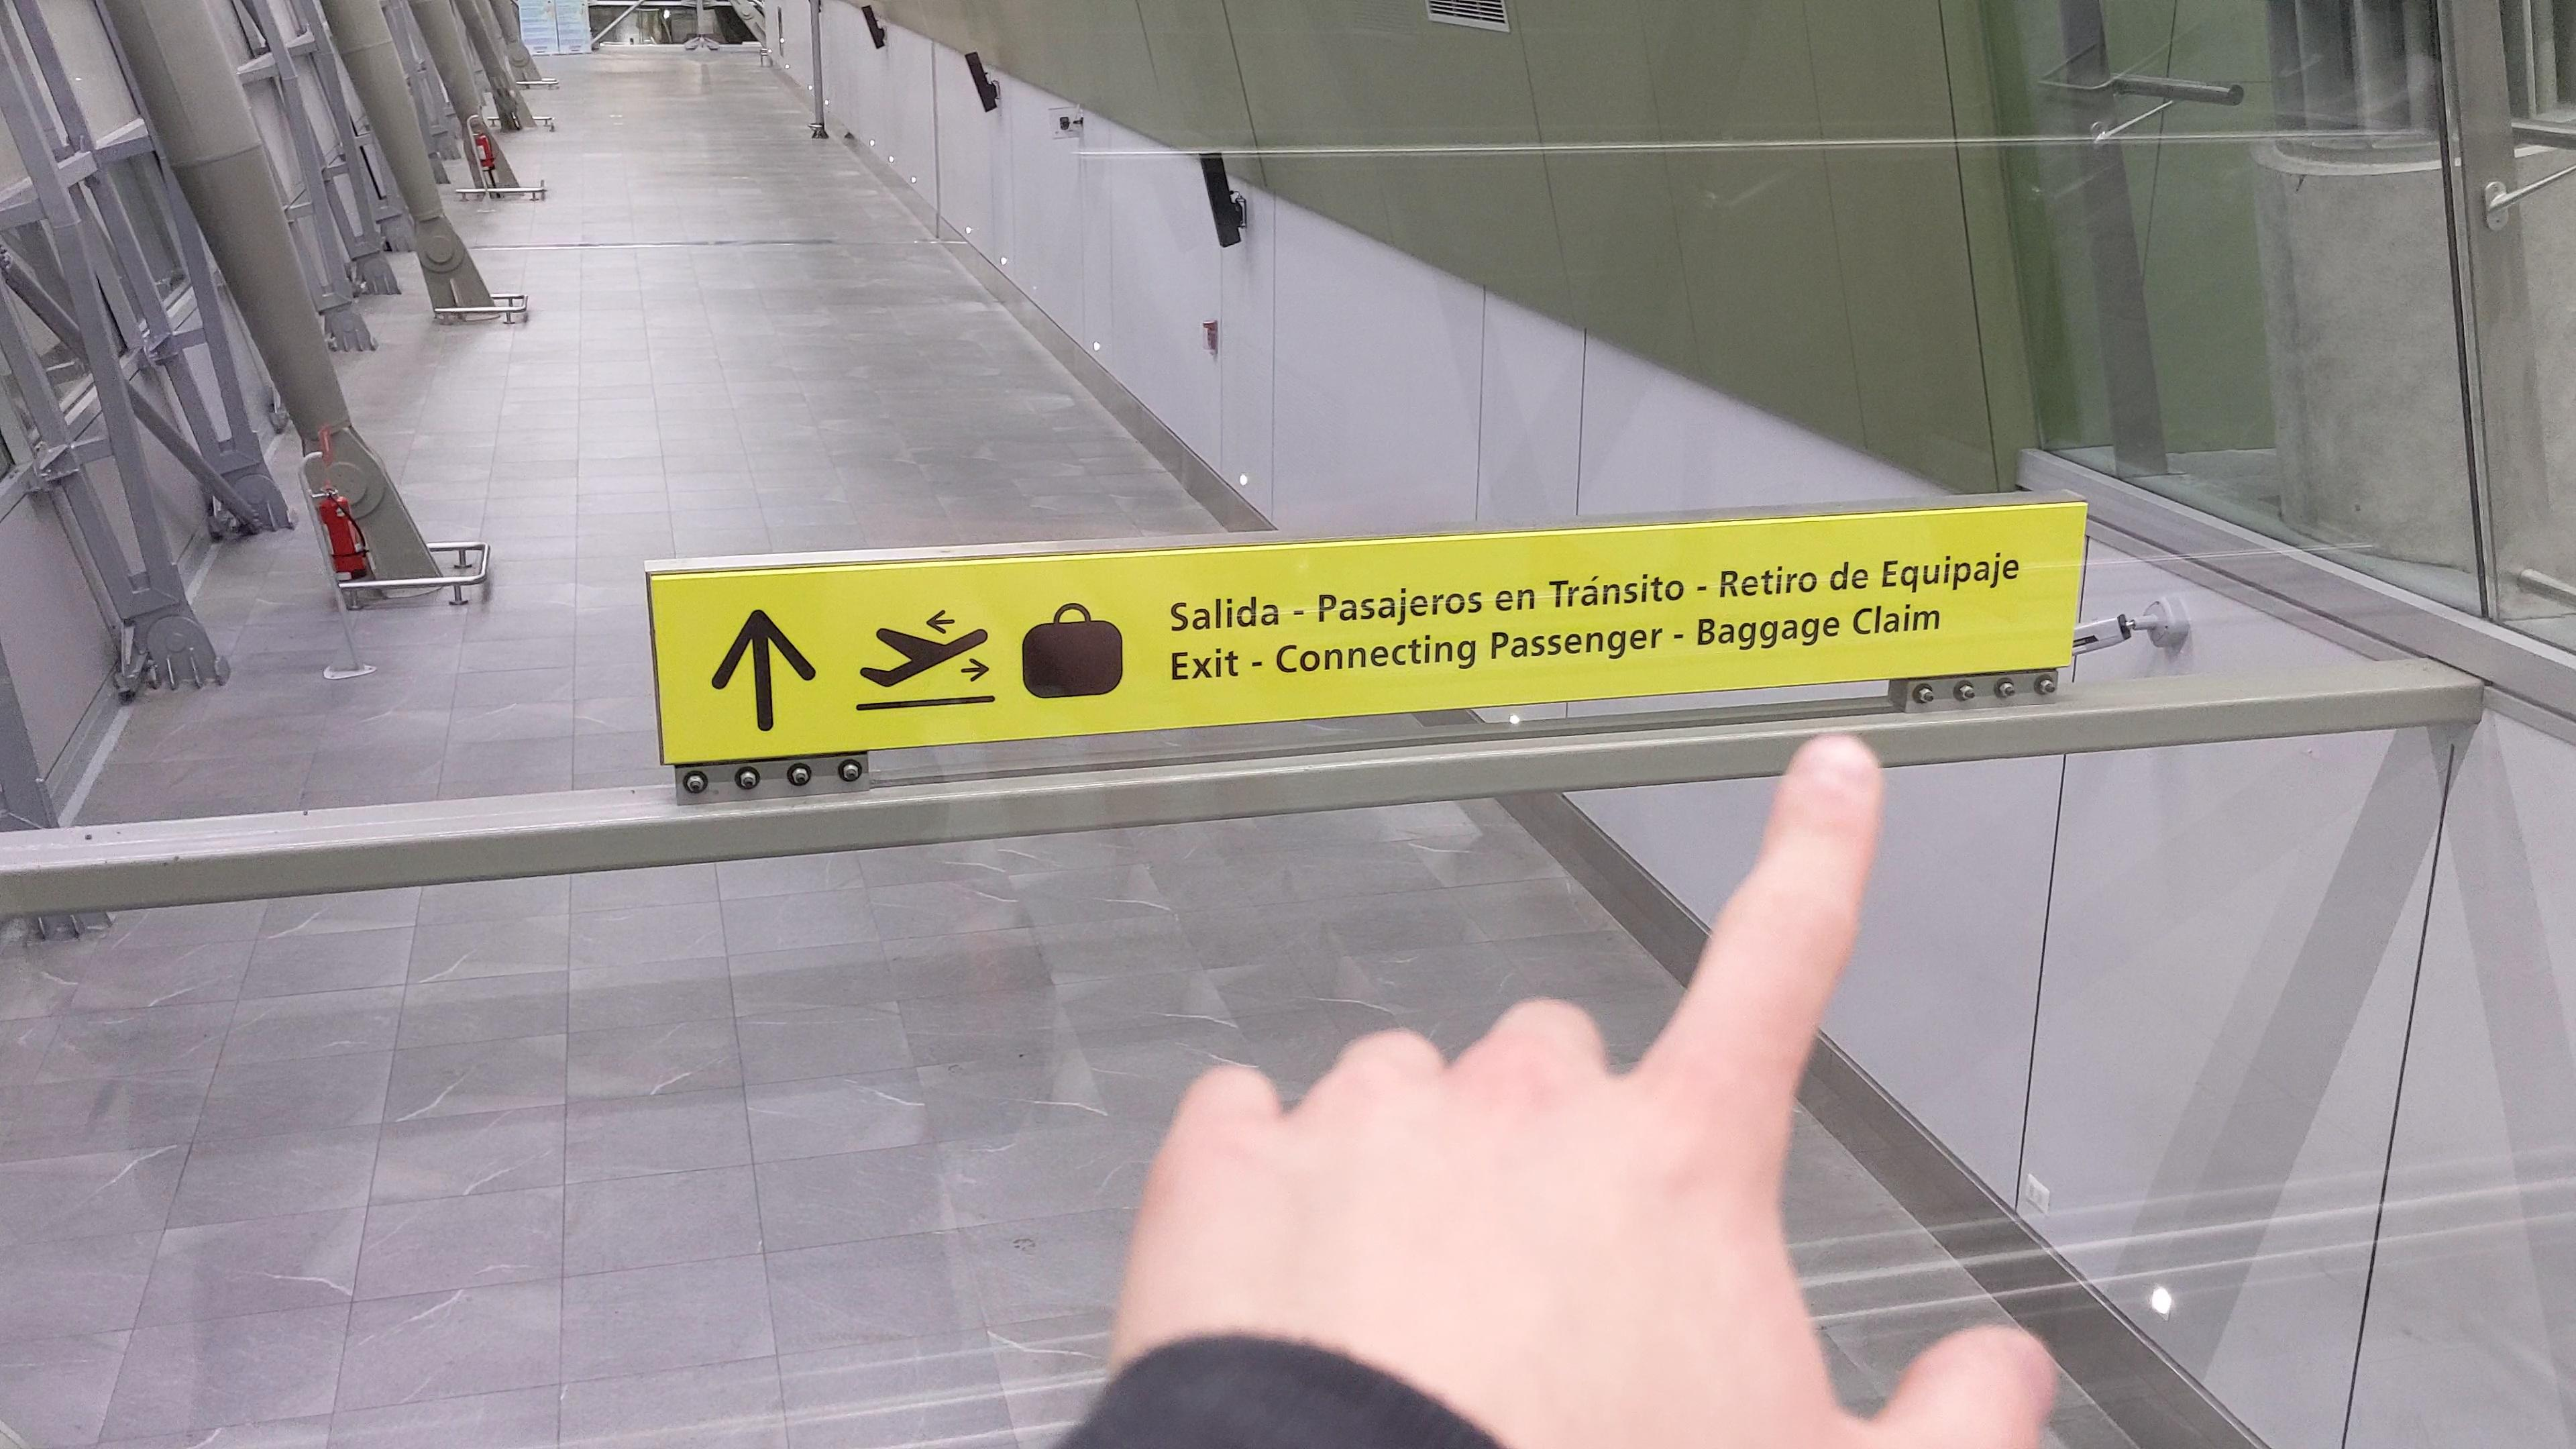airplane symbol: (849, 600, 1003, 701)
baggage claim: (1017, 596, 1127, 704)
fire-extinguisher: (315, 476, 375, 582), (474, 127, 502, 186)
thin up arrow: (706, 600, 823, 738)
